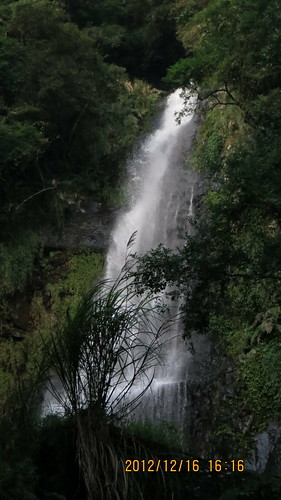wufengciWaterfall: (78, 77, 231, 417)
